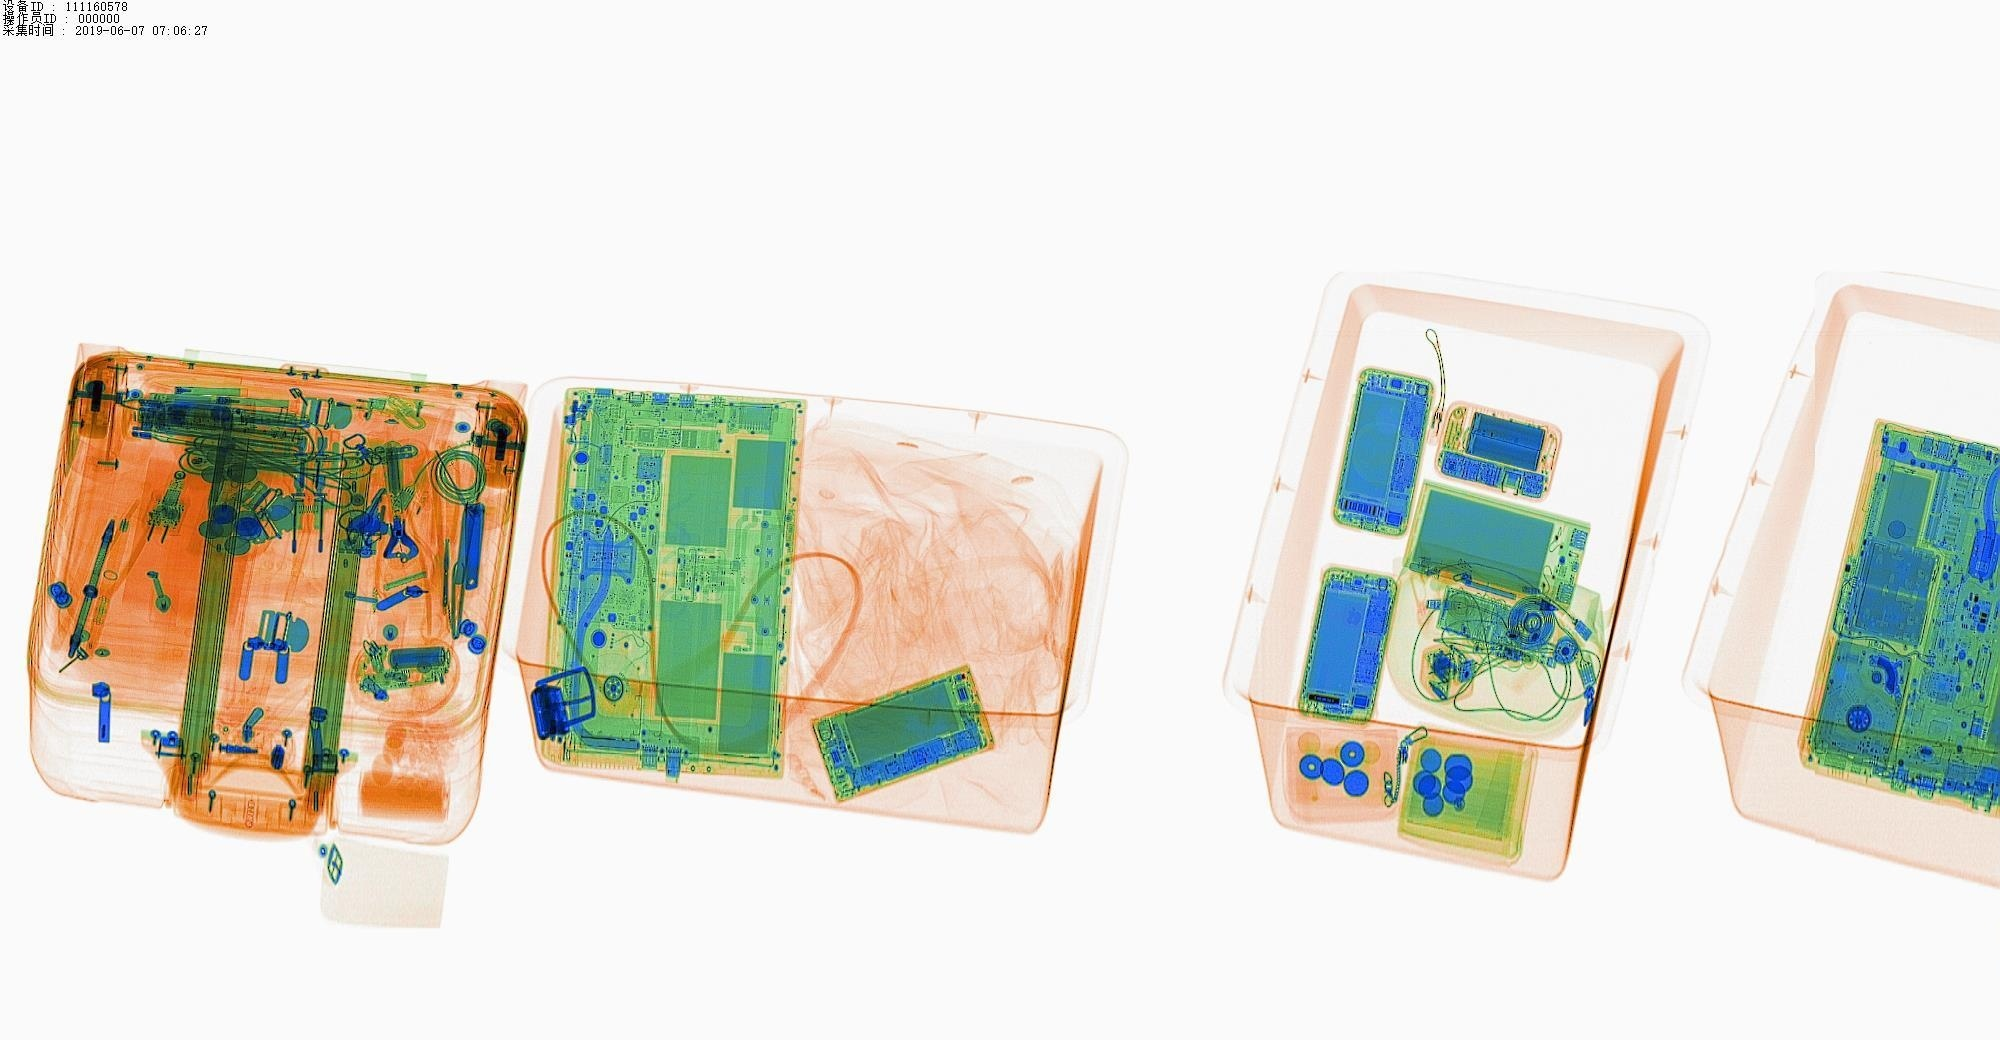NonmetallicFire: (288, 382, 409, 427)
